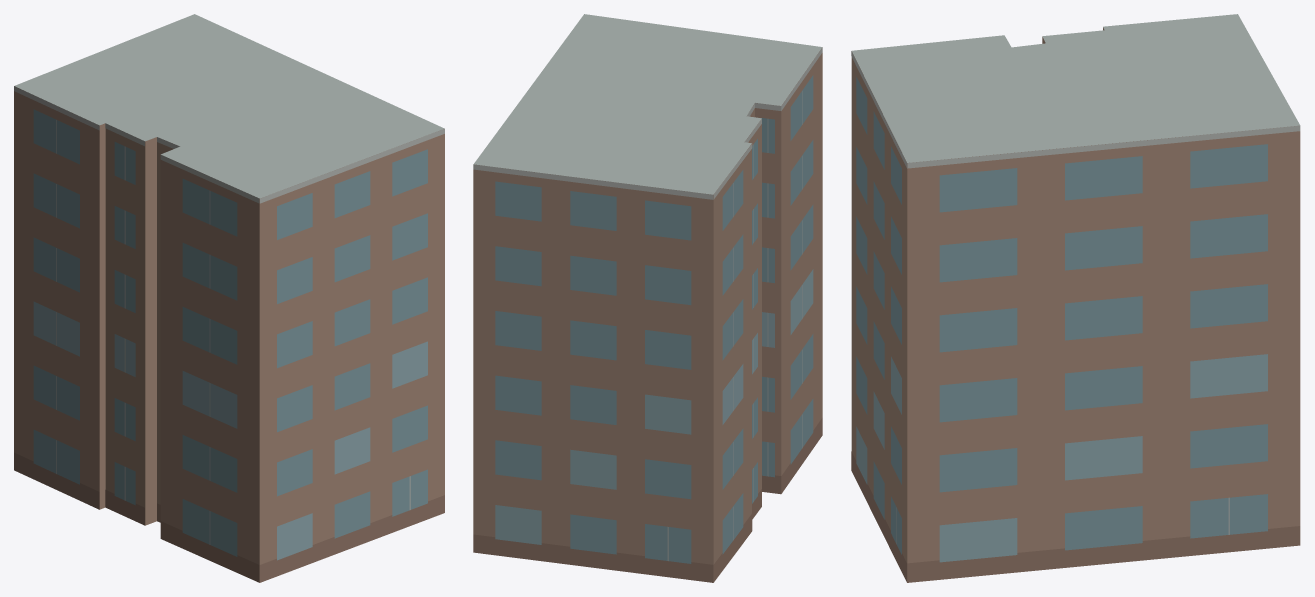
File: survey-upis-32912538.glb
3 views of the same model, side by side, from view 1: azimuth 30°, elevation 25°; view 2: azimuth 150°, elevation 25°; view 3: azimuth 270°, elevation 25° (orthographic). The views are drawn at different scales.
Visible parts, largest first — view 1: survey-upis-32912538.tmp; view 2: survey-upis-32912538.tmp; view 3: survey-upis-32912538.tmp.
Part boxes in pixels (left/top/right/bottom): survey-upis-32912538.tmp: left=14, top=14, right=444, bottom=582; survey-upis-32912538.tmp: left=473, top=14, right=822, bottom=582; survey-upis-32912538.tmp: left=851, top=14, right=1300, bottom=582.
Size of the model in its own units: 13.93 by 18.3 by 17.74.
